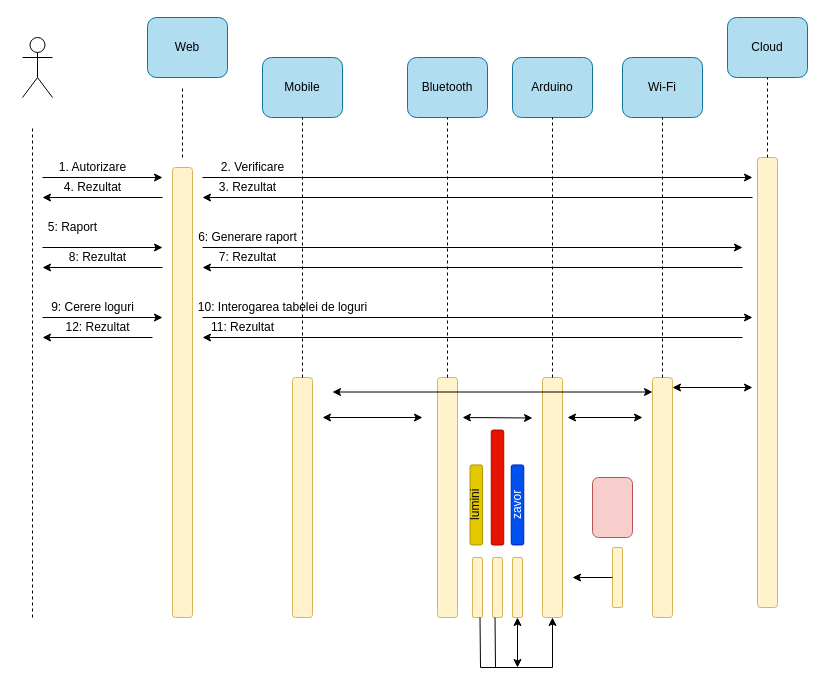
This 825x694 diagram has some shape labels left out. Here are the shapes that lost their labels. From the top down, the box of each, then its label:
(22, 36, 52, 98): Locatar
(490, 429, 504, 545): valve de caldura
(592, 476, 632, 538): Senzor temp
